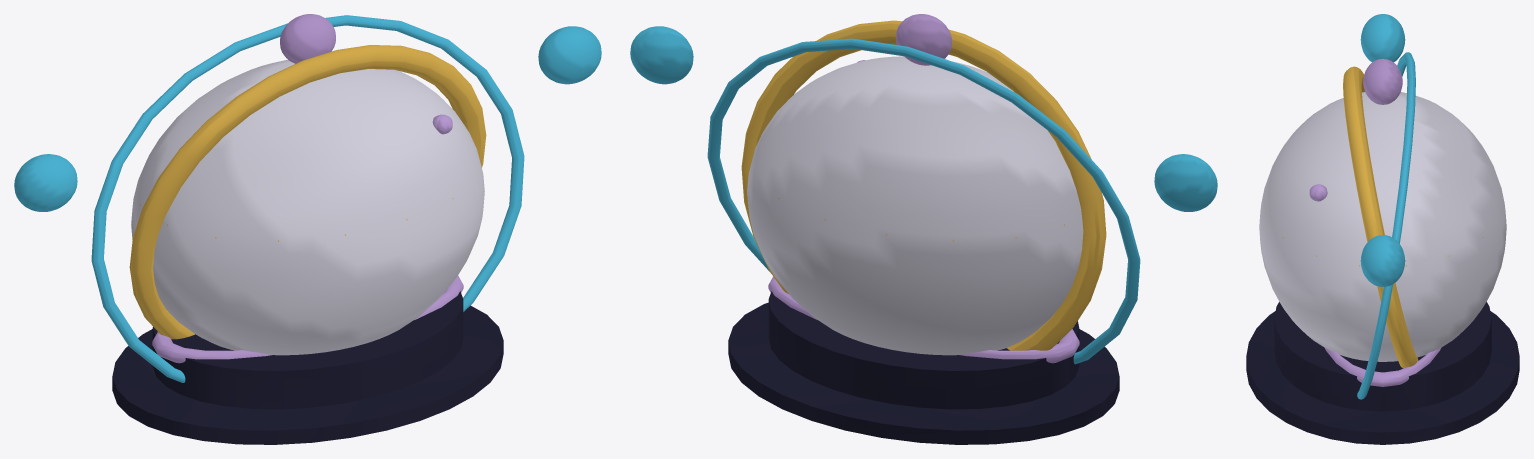
Rendered from 0047_天文图鉴_小行星.glb.
The picture shows the model from 3 angles, left to right: view 1: azimuth 30°, elevation 25°; view 2: azimuth 150°, elevation 25°; view 3: azimuth 270°, elevation 25°; orthographic projection. The views are drawn at different scales.
Parts seen in each view (by area): view 1: card_0047; view 2: card_0047; view 3: card_0047.
Part boxes in pixels (x1,y1,x2,y2): card_0047: (14, 14, 601, 444); card_0047: (630, 14, 1217, 444); card_0047: (1246, 14, 1519, 444).
Bounding box in the file's own units: 1.67 × 1 × 0.7844.
